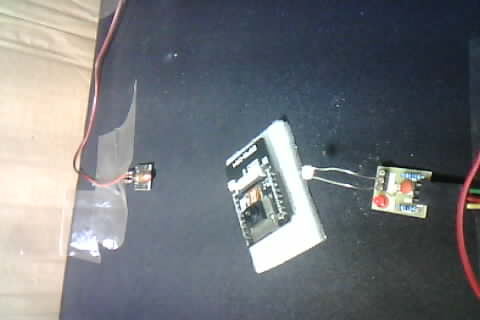esp32: (220, 114, 317, 281)
